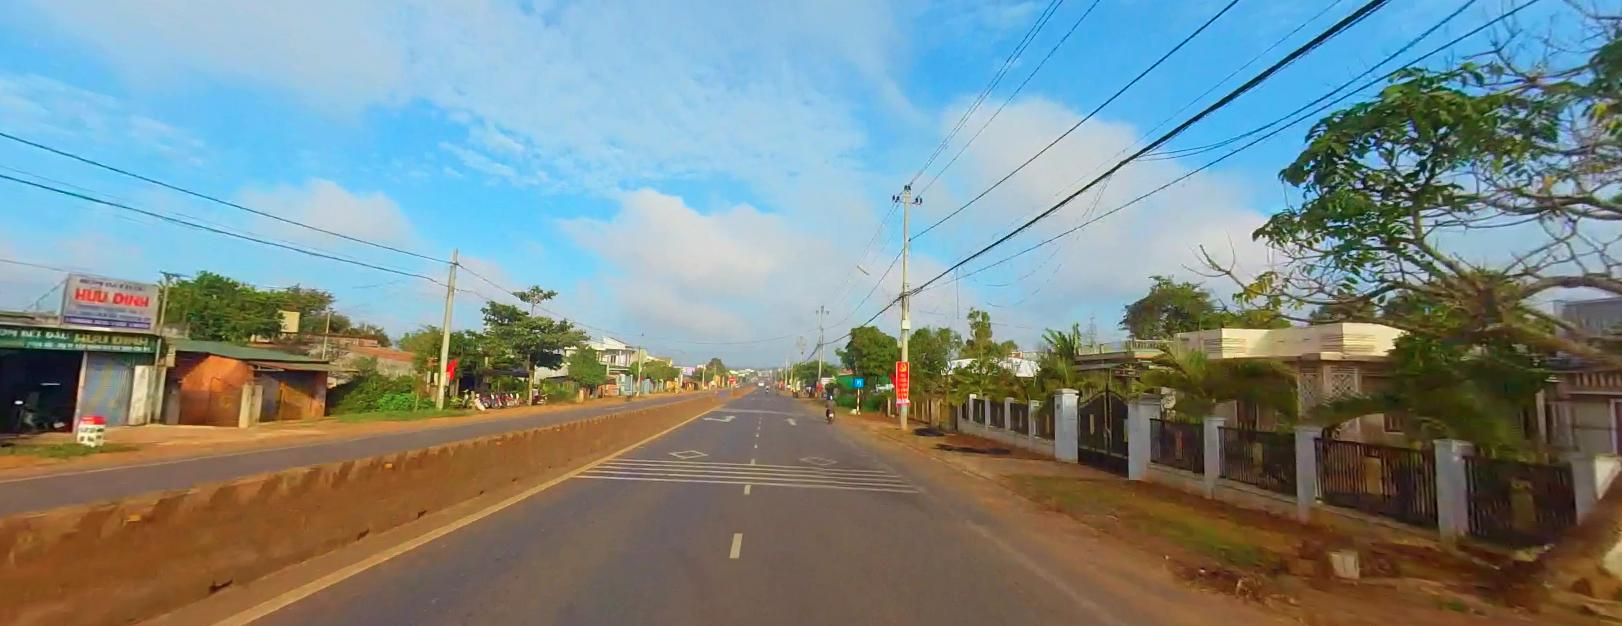Cam nguoc chieu: (728, 375, 734, 381)
